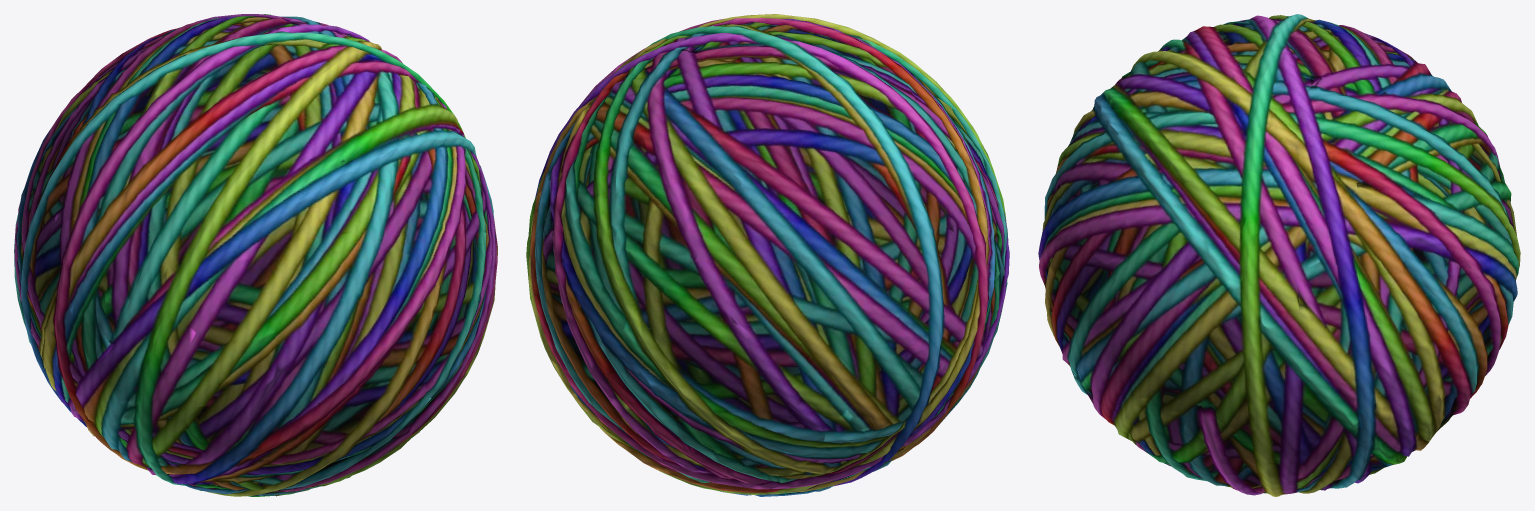
Rendered from realyarn.glb.
3 renders of one model, left to right at view 1: azimuth 30°, elevation 25°; view 2: azimuth 150°, elevation 25°; view 3: azimuth 270°, elevation 25°, orthographic.
Visible parts, largest first — view 1: SM_Globe6HD_retopo; view 2: SM_Globe6HD_retopo; view 3: SM_Globe6HD_retopo.
Part boxes in pixels (box(x1,y1,x2,y2)): SM_Globe6HD_retopo: box(14, 14, 497, 496); SM_Globe6HD_retopo: box(526, 14, 1009, 496); SM_Globe6HD_retopo: box(1038, 14, 1520, 496).
Bounding box in the file's own units: 0.1398 × 0.14 × 0.1398.
1 material, 1 textured.
